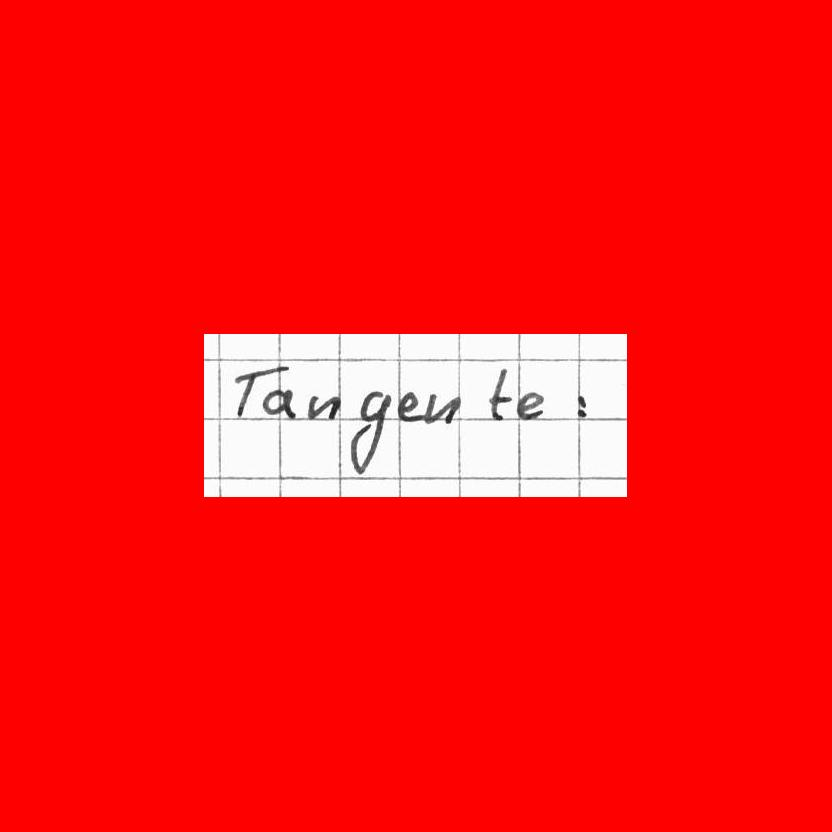Char: (347, 388, 391, 477), (228, 362, 272, 421), (484, 364, 511, 423), (425, 390, 459, 428), (306, 390, 341, 423), (262, 386, 295, 421), (515, 388, 546, 423), (397, 389, 422, 423), (573, 390, 590, 422)
